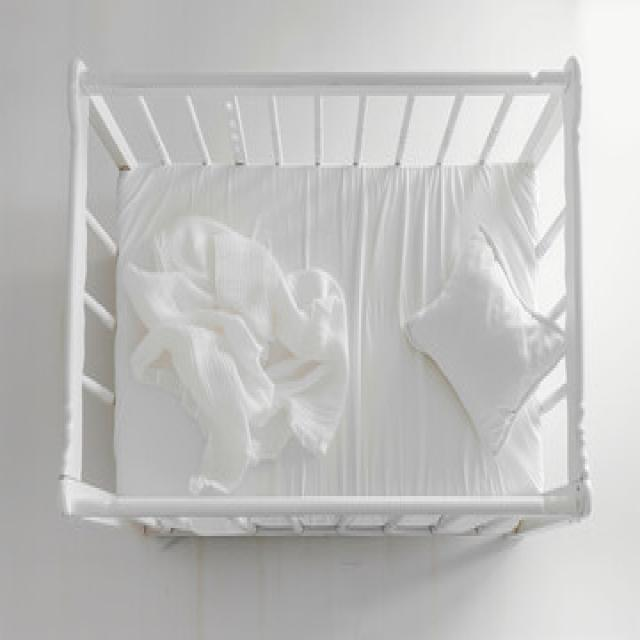crib: (81, 72, 581, 507)
